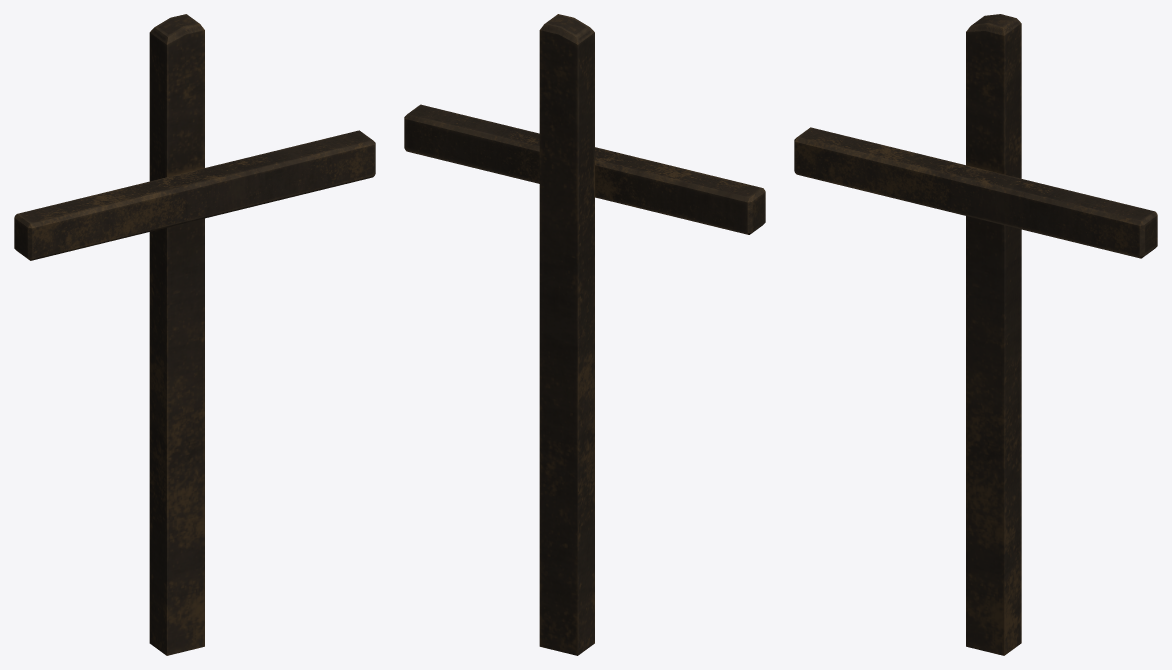
Rendered from cross_05.fbx.
3 renders of one model, left to right at view 1: azimuth 30°, elevation 25°; view 2: azimuth 150°, elevation 25°; view 3: azimuth 330°, elevation 25°, orthographic.
Visible parts, largest first — view 1: cross_05; view 2: cross_05; view 3: cross_05.
Part boxes in pixels (<box>): cross_05: <box>14,14,375,655</box>; cross_05: <box>404,14,765,655</box>; cross_05: <box>794,14,1157,655</box>.
Bounding box in the file's own units: 0.1437 × 0.2458 × 0.0249.
Materials: 1 (1 with a texture image).
